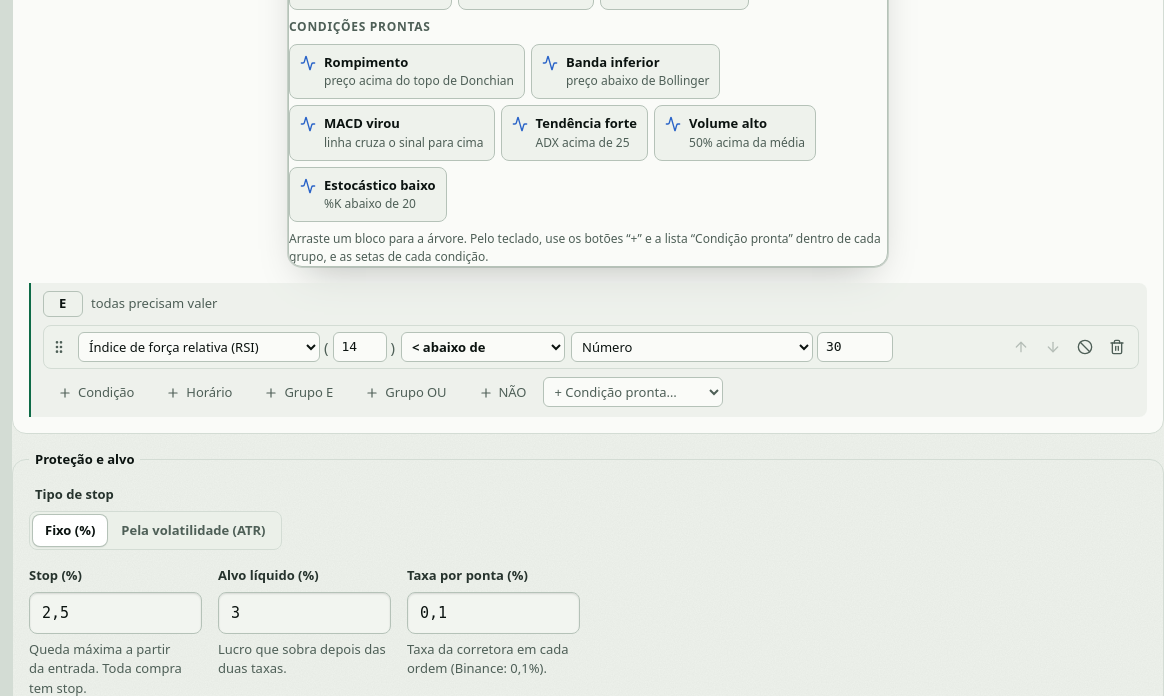
Test: Construtor de estratégias › escolhe um indicador novo, a linha dele e os parâmetros
This screenshot has width=1164, height=696.
(page scrolled)
Step 1. Select "Bandas de Bollinger" in the dropdown named "Lado direito: tipo" → (692, 347), box top-left (571, 332), bottom-right (813, 362)
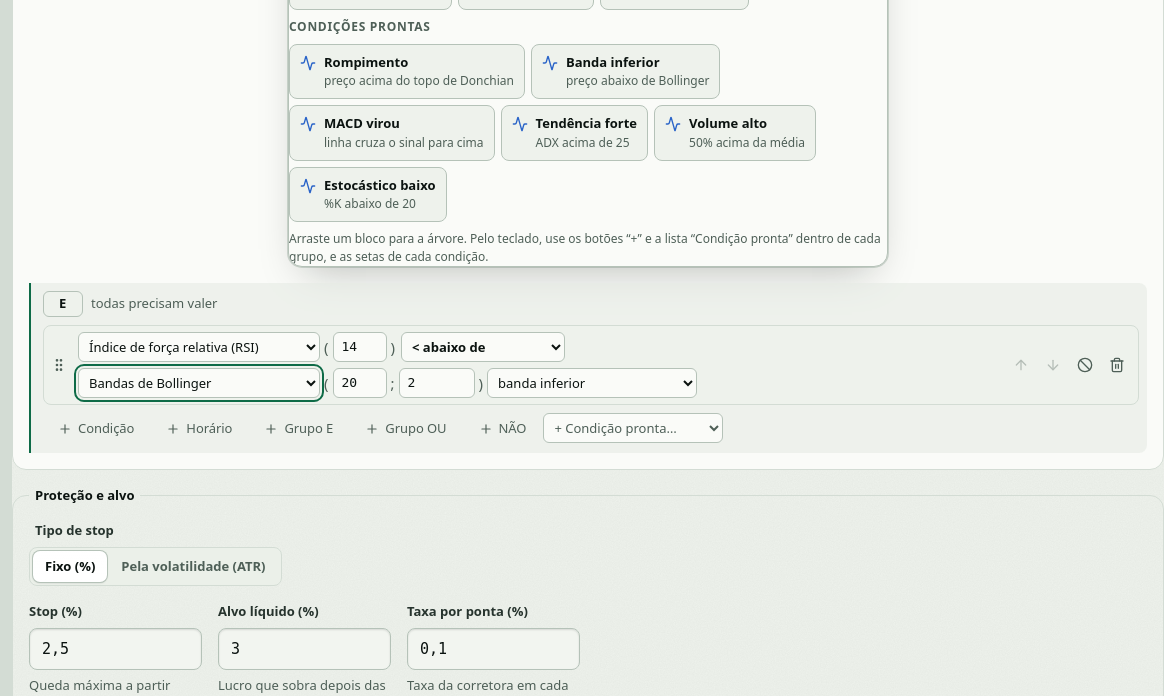
Step 2. Select "%B (0 = inferior, 1 = superior)" in the dropdown named "Lado direito: linha de Bollinger" → (592, 383), box top-left (487, 368), bottom-right (697, 398)
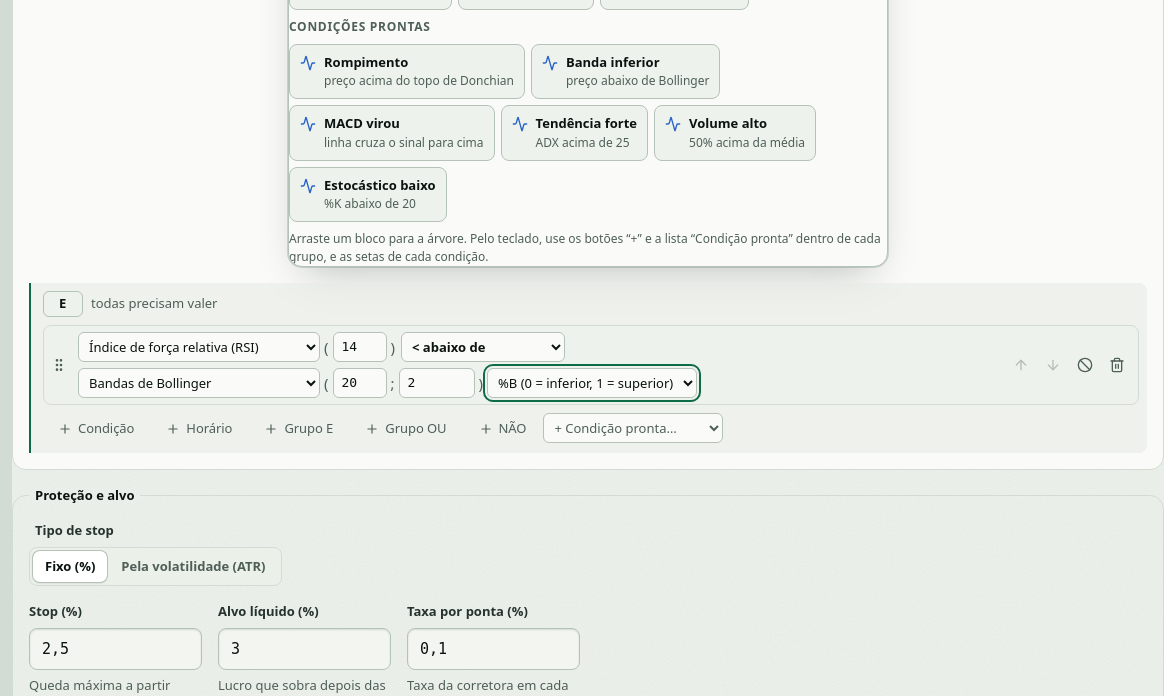
Step 3. Replace the text in the field named "Lado direito: desvios-padrão de Bollinger" with "2,5" → (436, 383), box top-left (398, 368), bottom-right (474, 398)
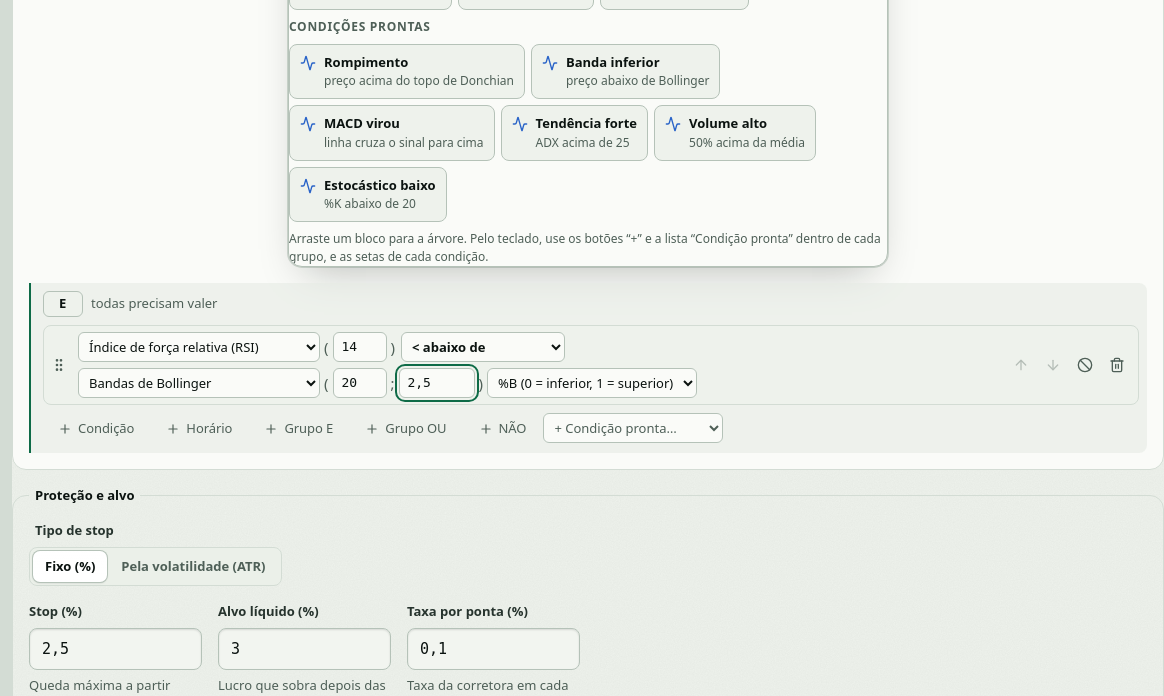
Step 4. Select "Máxima" in the dropdown named "Lado esquerdo: tipo" → (199, 347), box top-left (78, 332), bottom-right (320, 362)
(page scrolled)
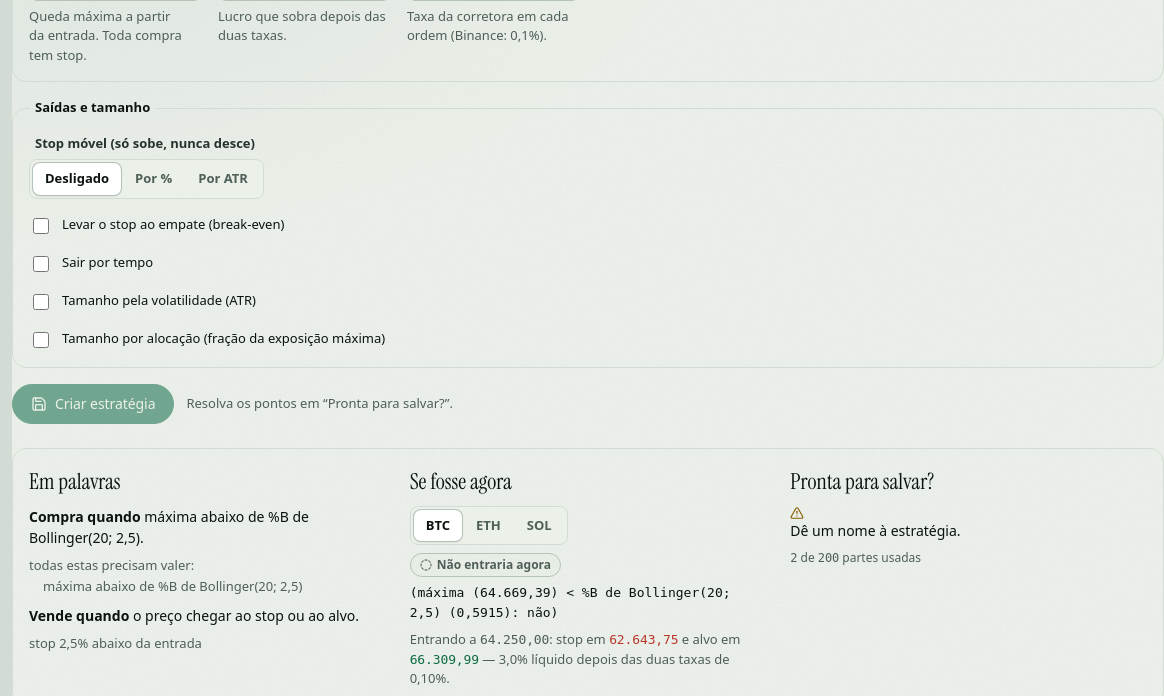
Expected: the text "Compra quando máxima abaixo de %B de Bollinger(20; 2,5)." is shown, top-left (29, 507), bottom-right (309, 547)
